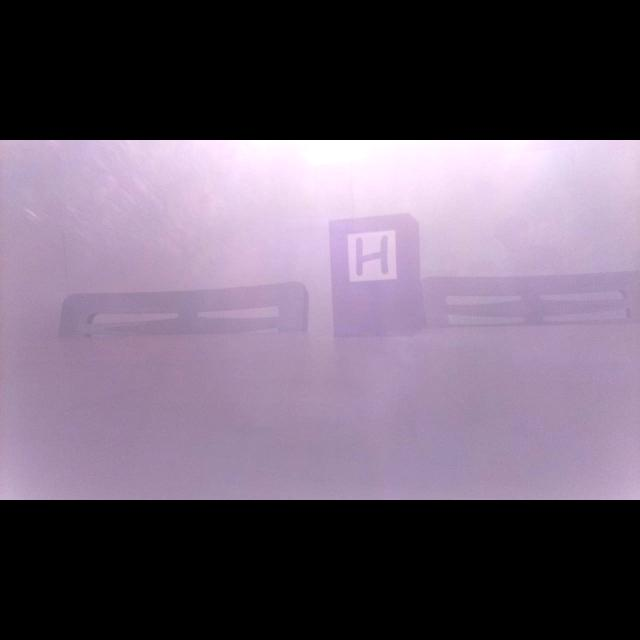H: (356, 235, 388, 276)
